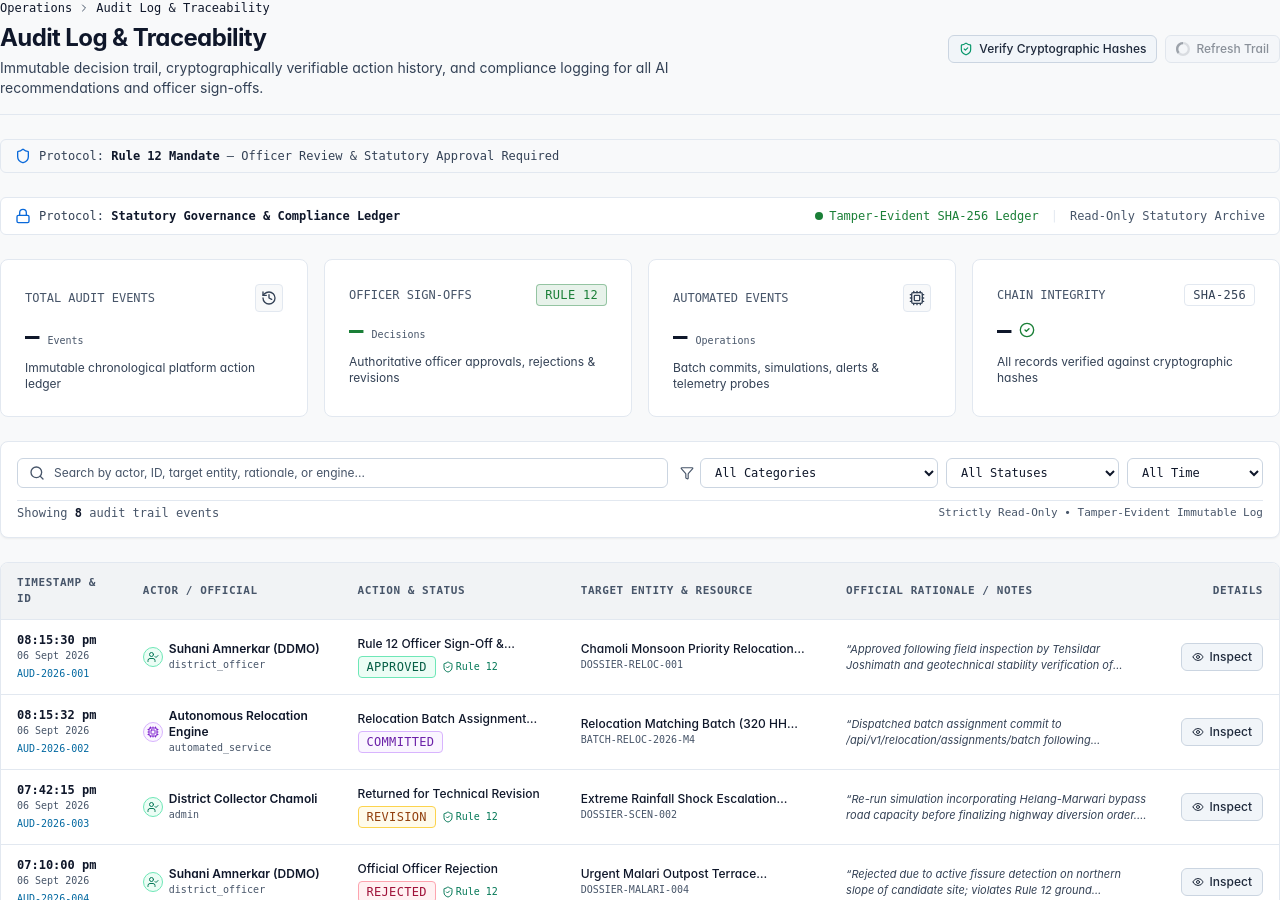
Scenario: Audit Log & Traceability UI Suite (Chunk M6-09) › 8. Deep Inspection: clicking Inspect opens AuditDetailModal with complete traceability fields
The width and height of the screenshot is (1280, 900).
Click the button with test id "inspect-audit-AUD-2026-001". click: click(1222, 657)
box: [1181, 643, 1263, 671]
(page scrolled)
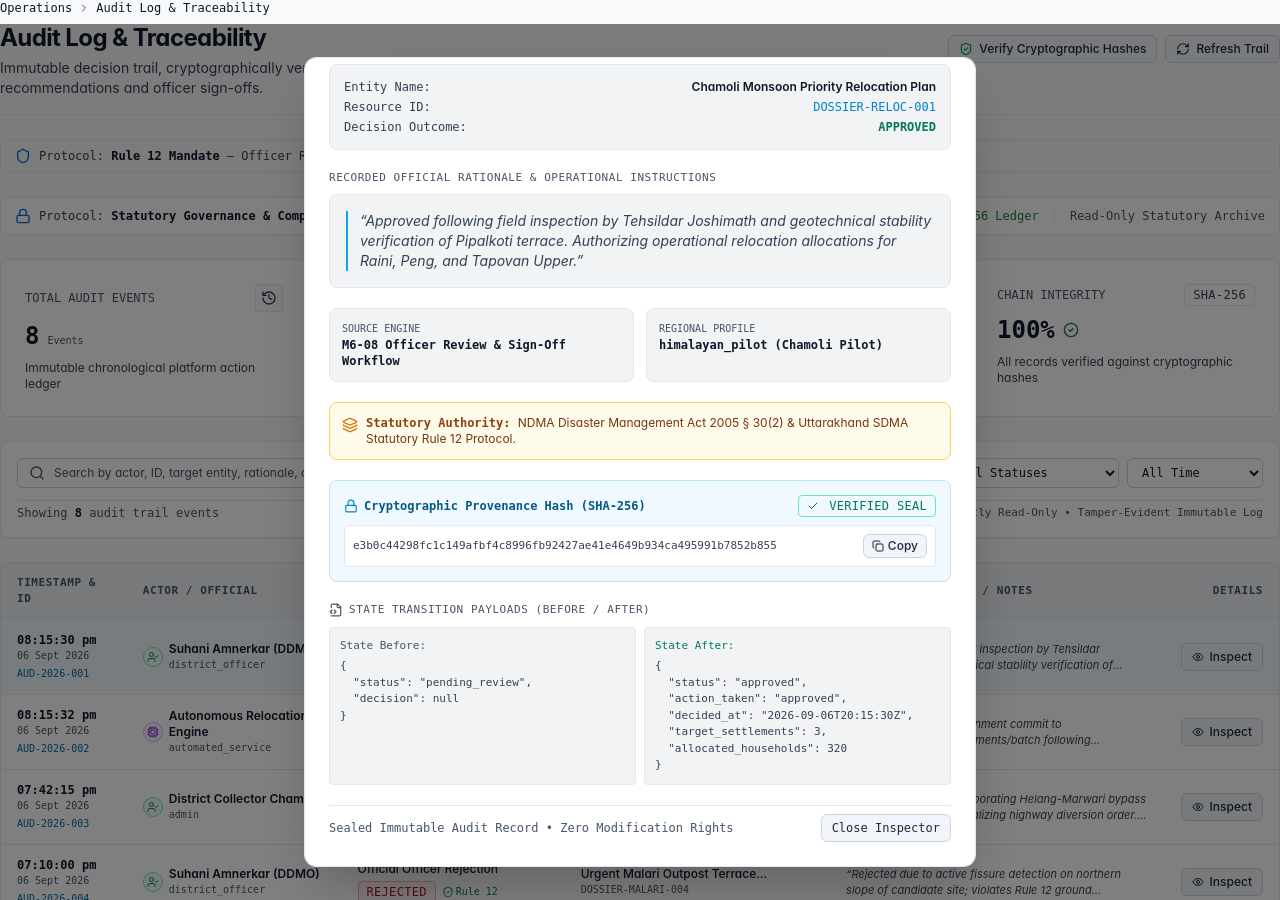
Expected: the dialog with test id "audit-detail-modal" is shown
Expected: the text "geotechnical stability verification of Pipalkoti terrace" is shown, [360, 212, 931, 269]
Expected: the text "M6-08 Officer Review & Sign-Off Workflow" is shown, [342, 338, 566, 368]
// Close Modal
Click the button "Close Inspector". click: click(886, 828)
box: [821, 814, 951, 842]
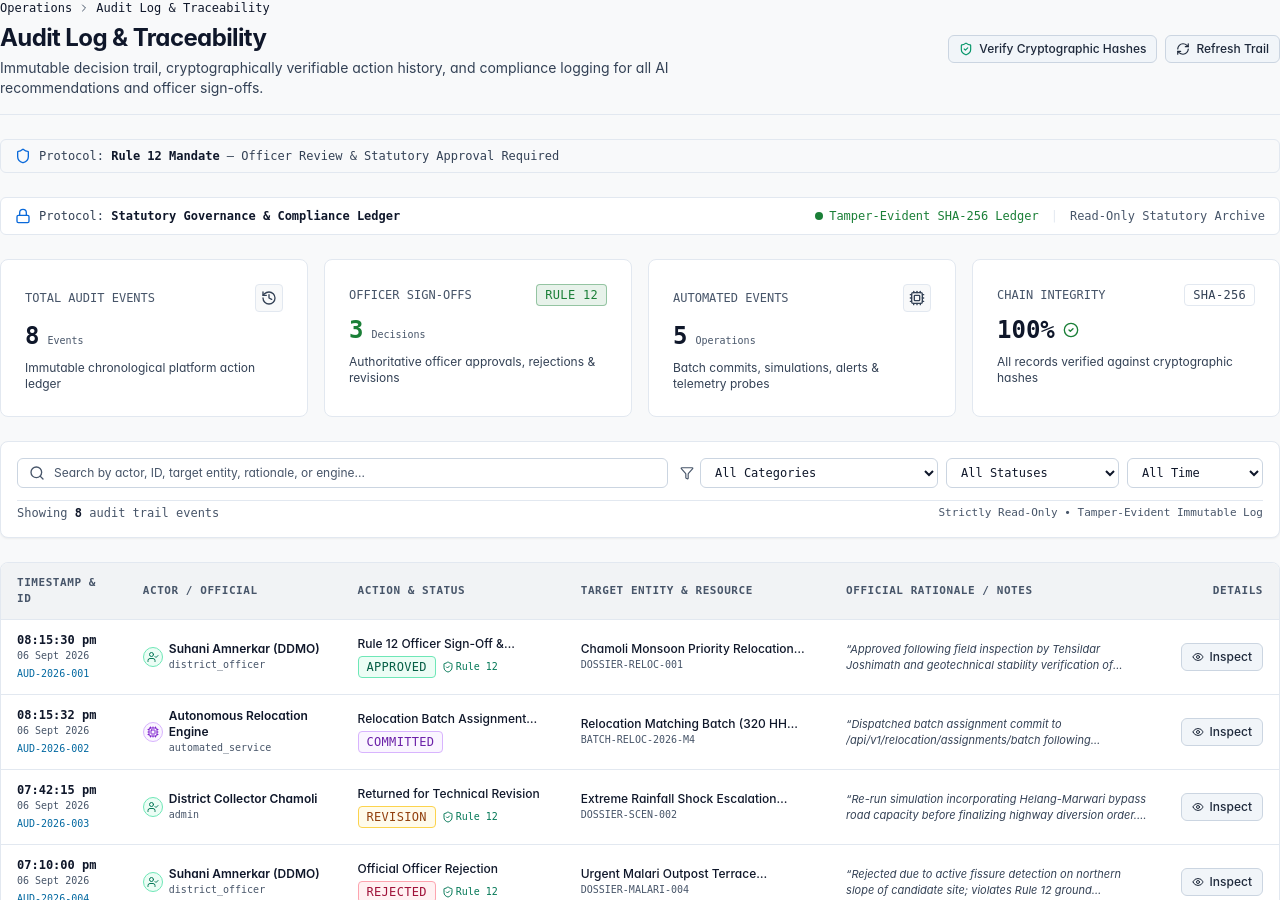
Expected: the dialog with test id "audit-detail-modal" is gone
